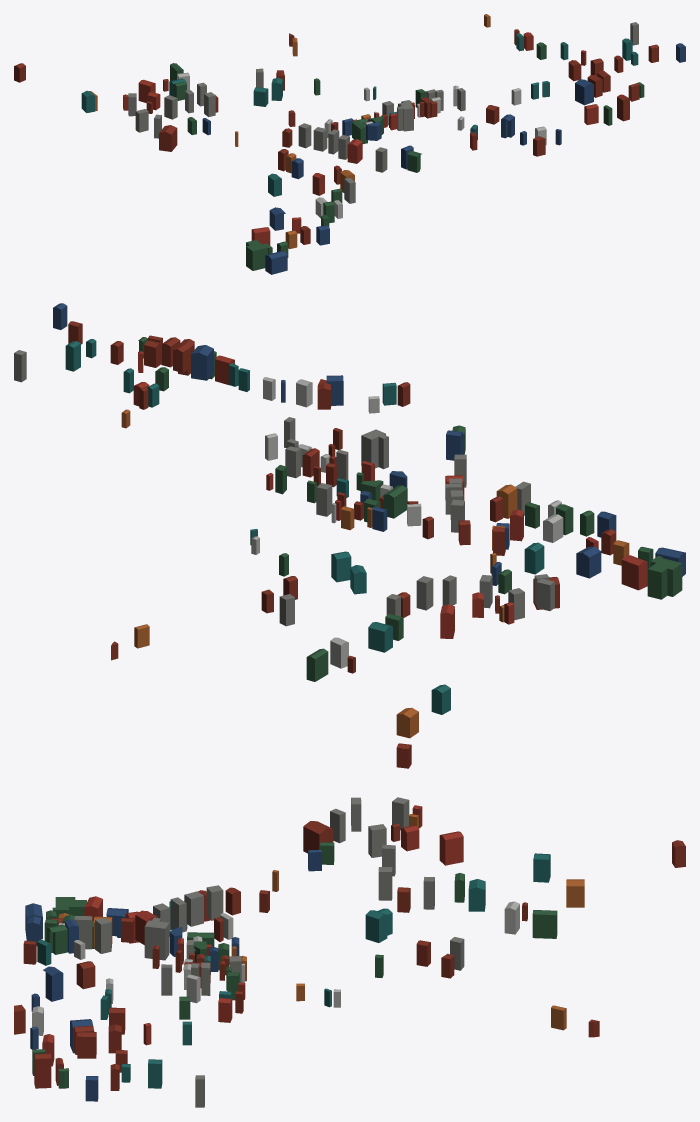
Rendered from near-16-54718-29734.ad007117.glb.
3 renders of one model, top to bottom at view 1: azimuth 30°, elevation 25°; view 2: azimuth 150°, elevation 25°; view 3: azimuth 270°, elevation 25°, orthographic. The views are drawn at different scales.
Bounding box in the file's own units: 581 × 138 × 510.
